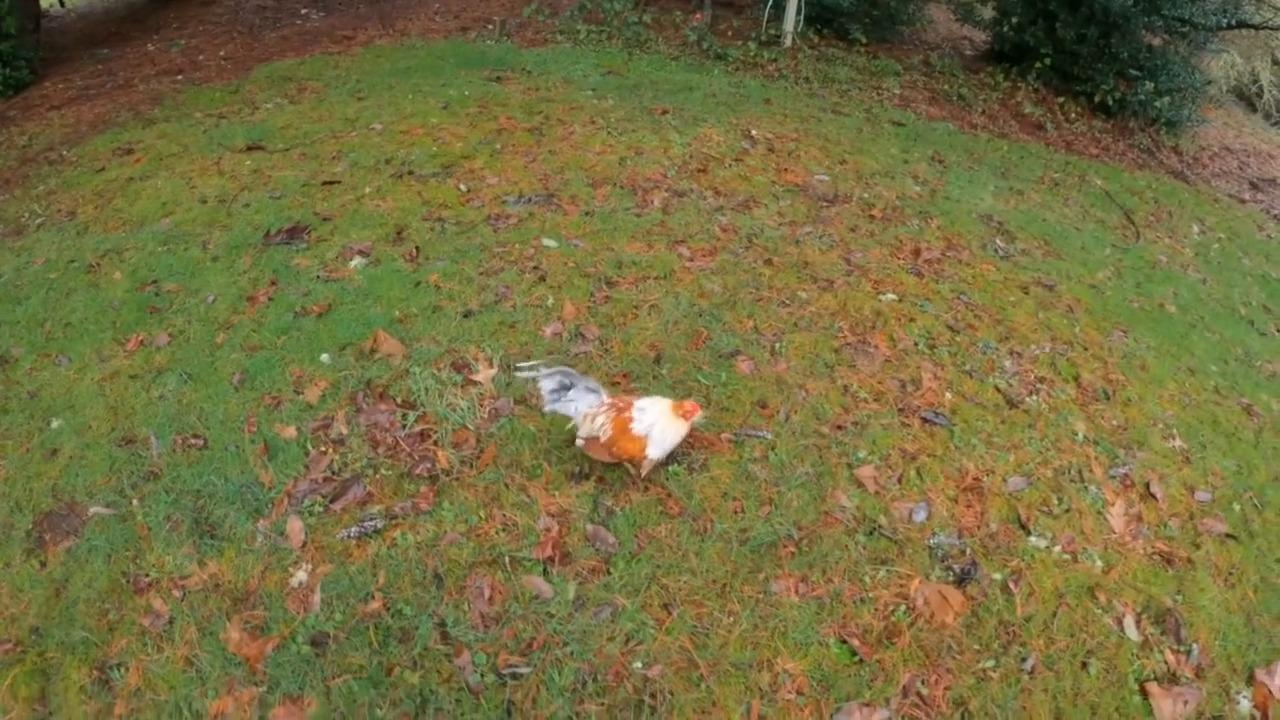Normal: (524, 358, 724, 488)
